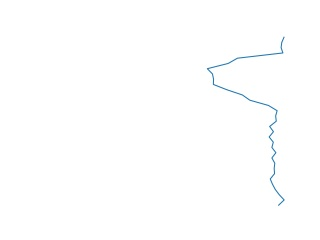distalBar: (201, 37, 291, 206)
